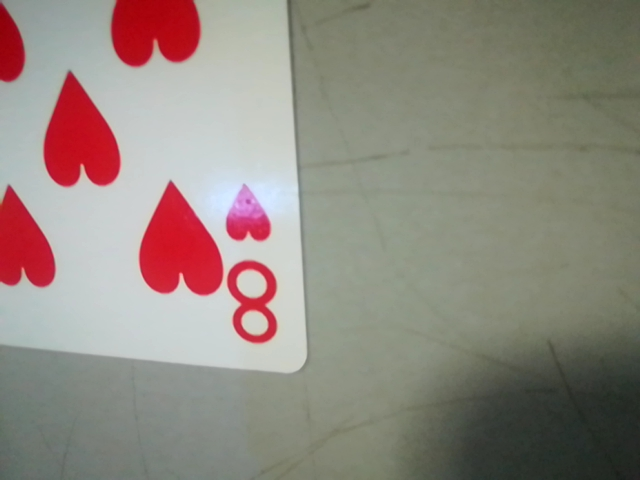hx 8: (216, 174, 295, 359)
